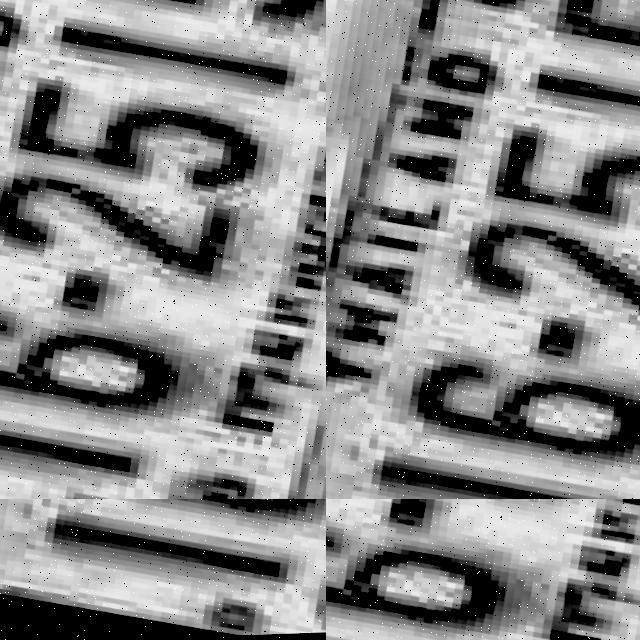license-plate: (0, 0, 326, 499), (326, 499, 640, 640)
